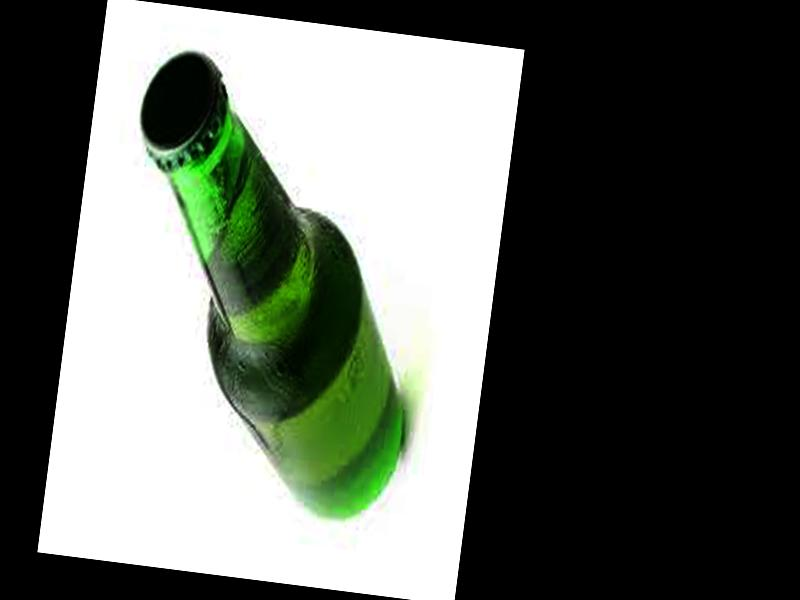Beer: (94, 46, 450, 528)
